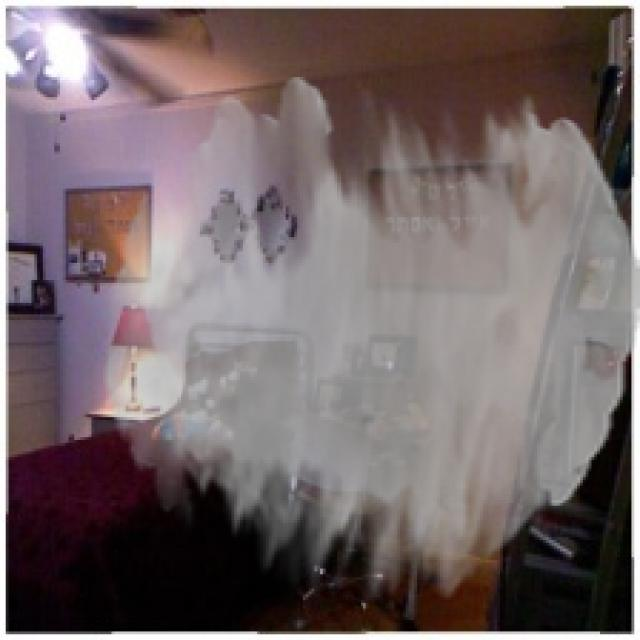smoke: (103, 77, 637, 606)
